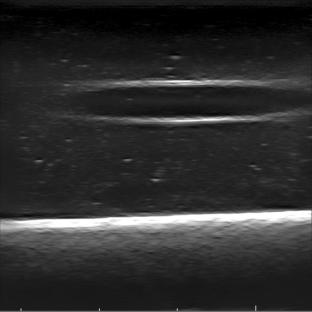vessel: (72, 78, 308, 125)
